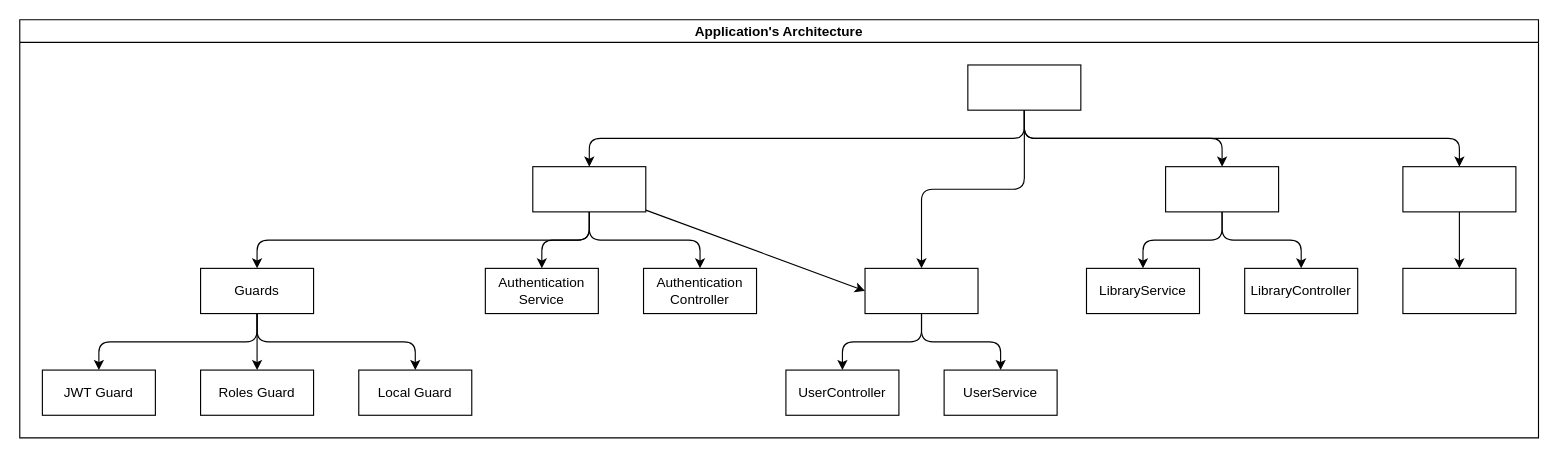
Some shapes in this 1558 by 458 pixel diagram are drawn without their labels. The centre of each missing label's shape, as x and y in pixels:
App Module: the point at 1024,87
Authentication: the point at 589,189
Core: the point at 1459,189
Global Filters: the point at 1459,290
Library: the point at 1221,189
Users: the point at 921,290
